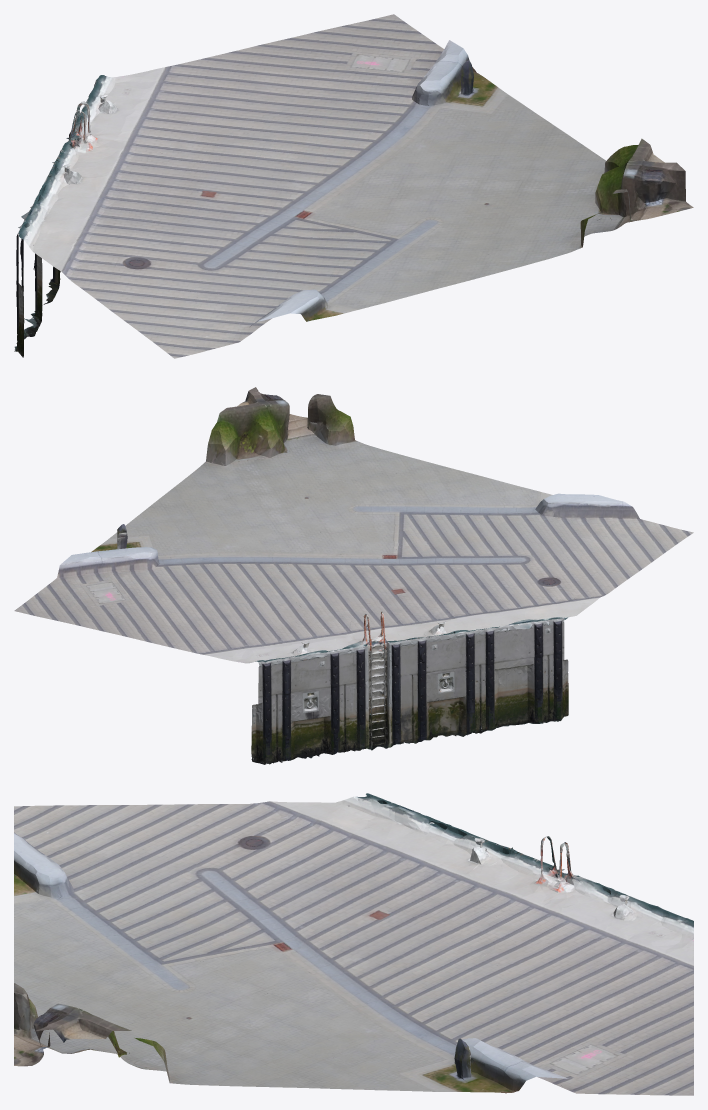
3 renders of one model, top to bottom at view 1: azimuth 30°, elevation 25°; view 2: azimuth 150°, elevation 25°; view 3: azimuth 270°, elevation 25°, orthographic. The views are drawn at different scales.
Bounding box in the file's own units: 16.71 × 5.34 × 16.71.
Materials: 3 (3 with a texture image).
